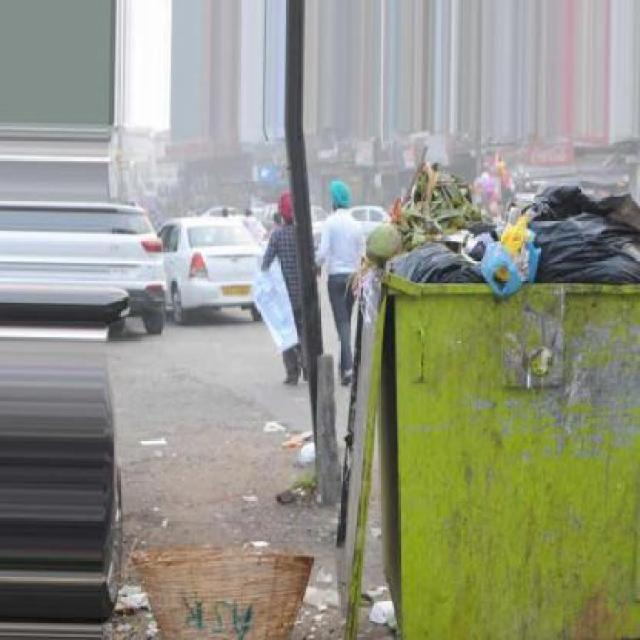garbage: (367, 144, 640, 290), (117, 534, 423, 635), (263, 414, 339, 465), (121, 431, 176, 455)
